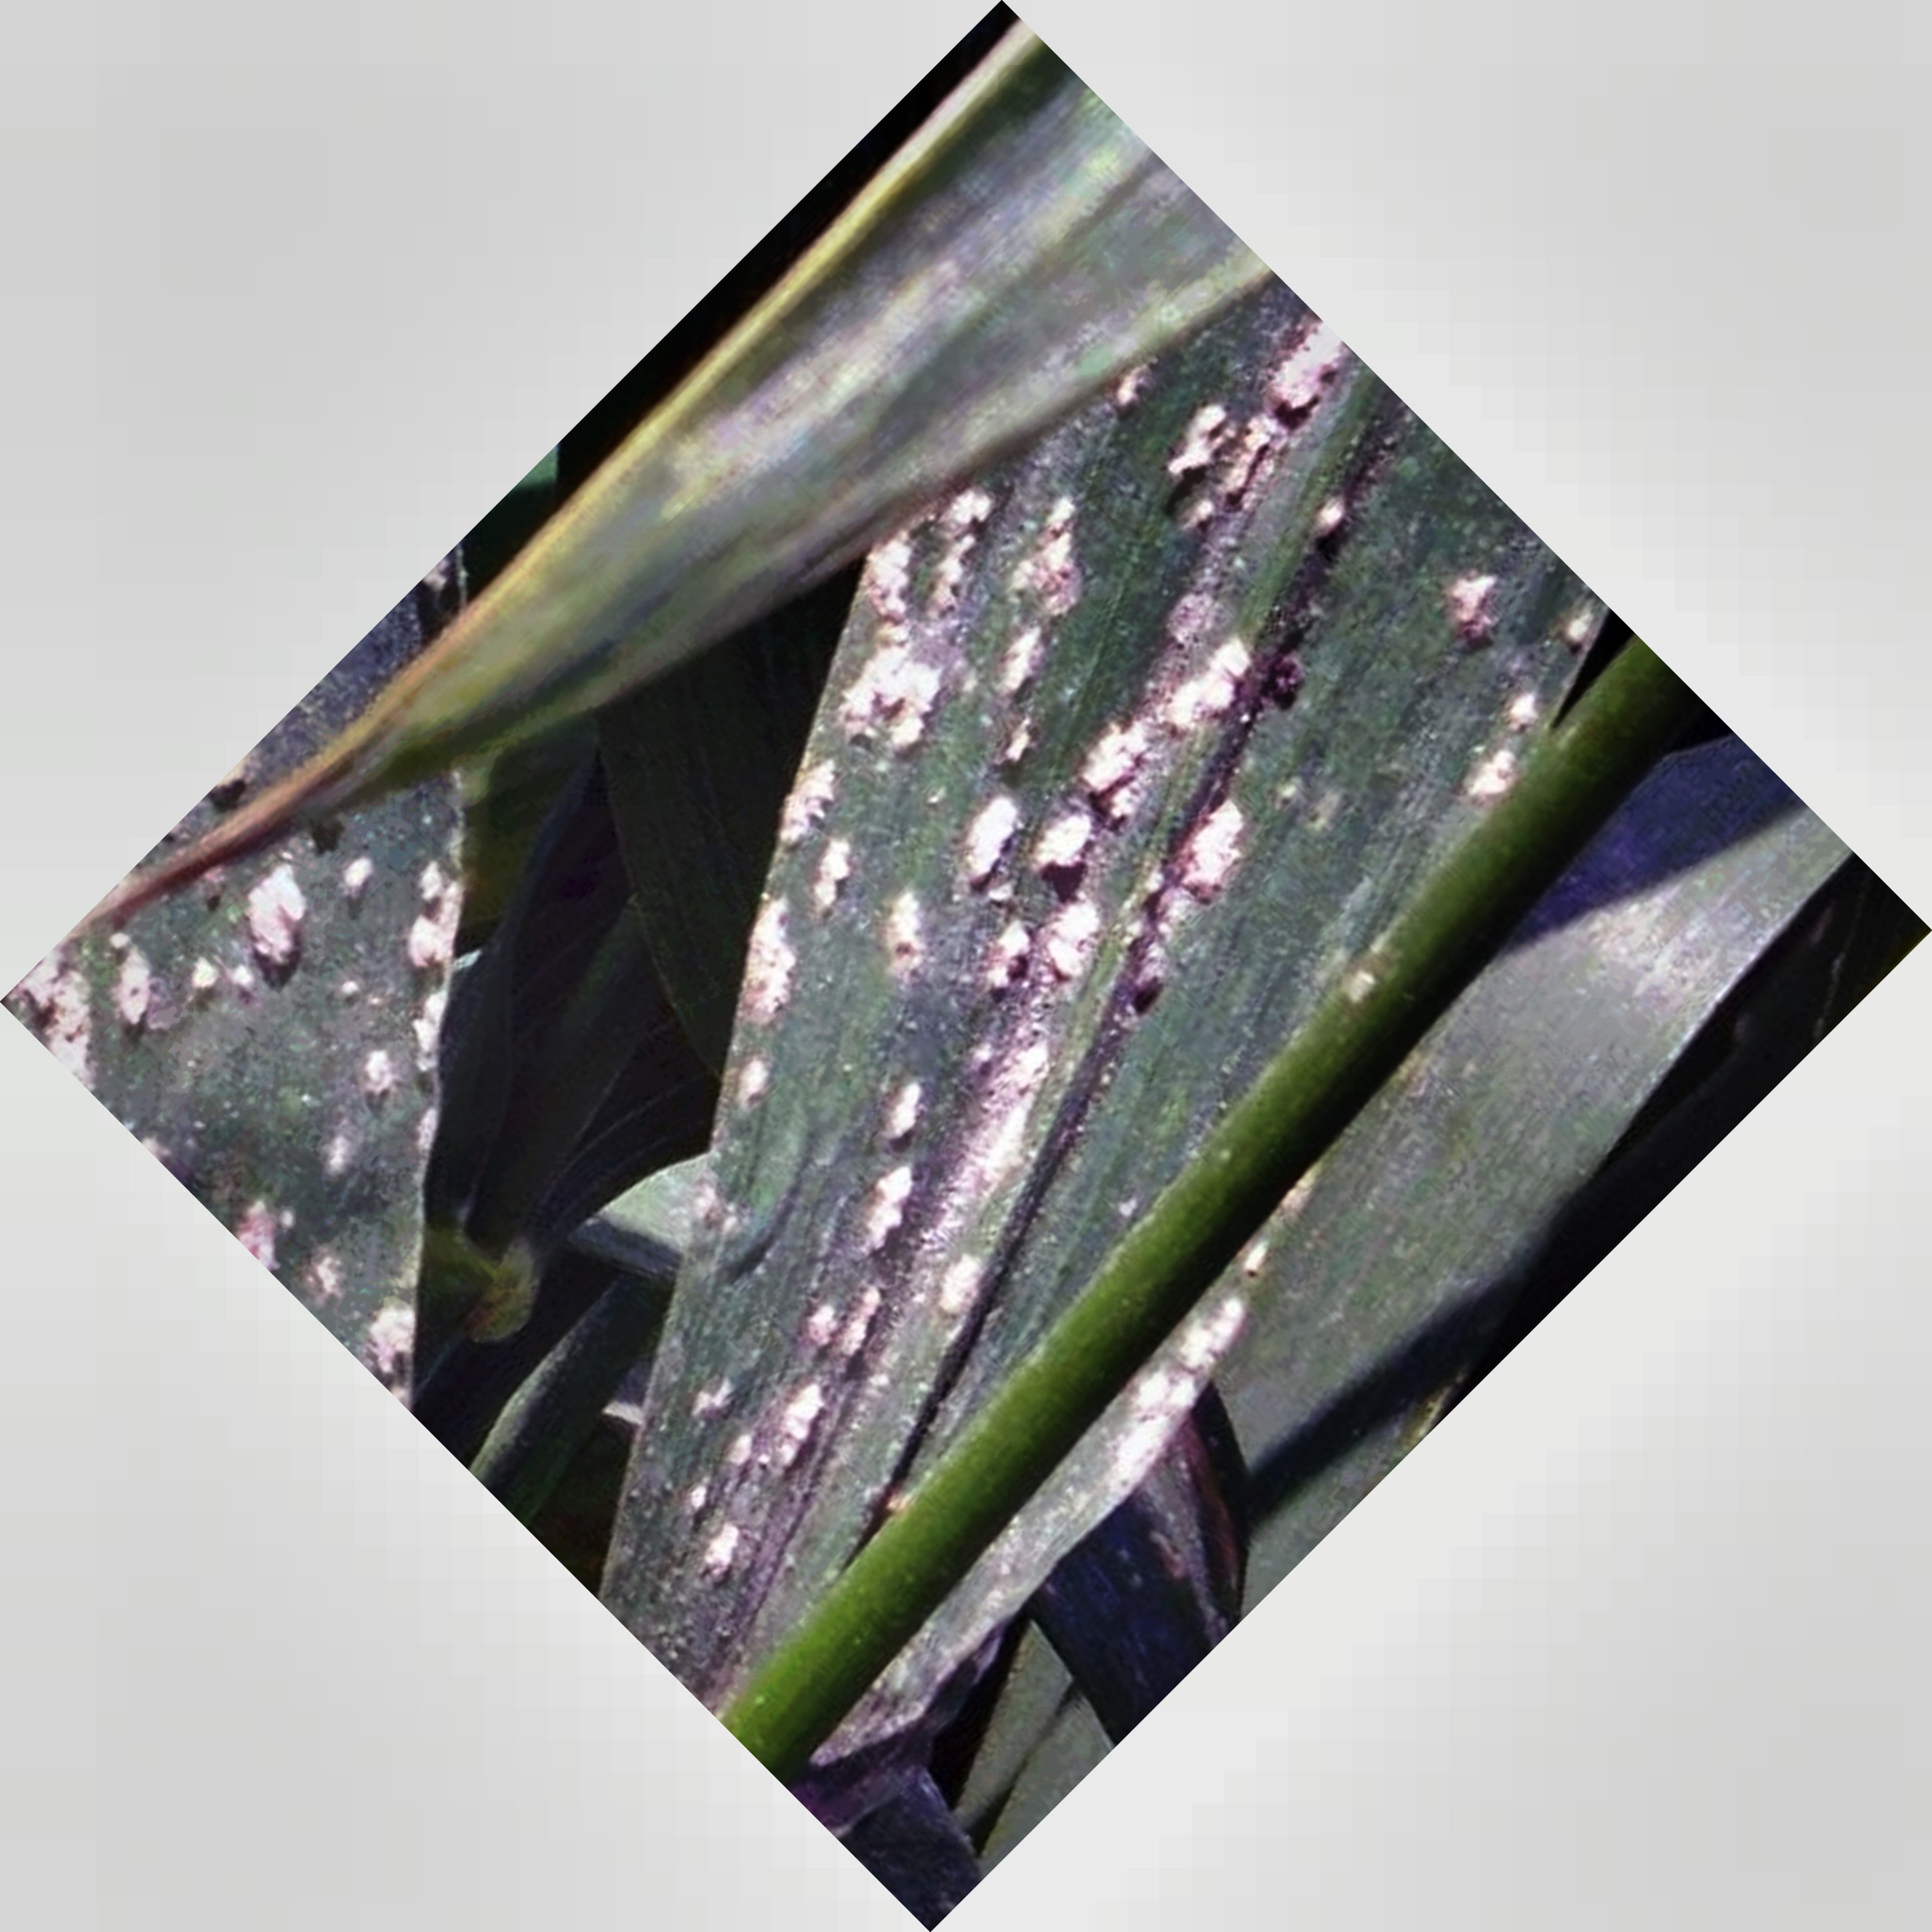Powdery Mildew: (642, 349, 1373, 1520)
